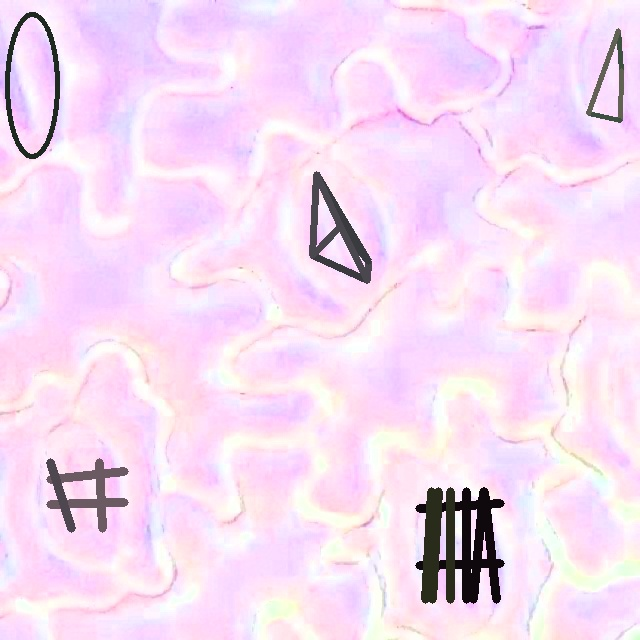open: (415, 487, 504, 603), (5, 12, 59, 158), (310, 171, 371, 282), (46, 459, 127, 531), (586, 28, 623, 122)
